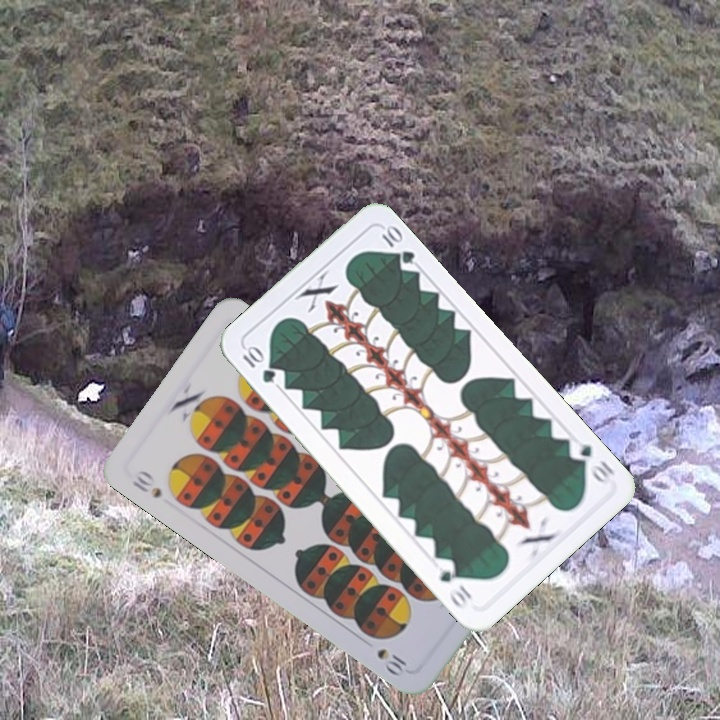G10: (564, 435, 618, 488), (238, 342, 279, 386)
S10: (128, 466, 165, 501)
